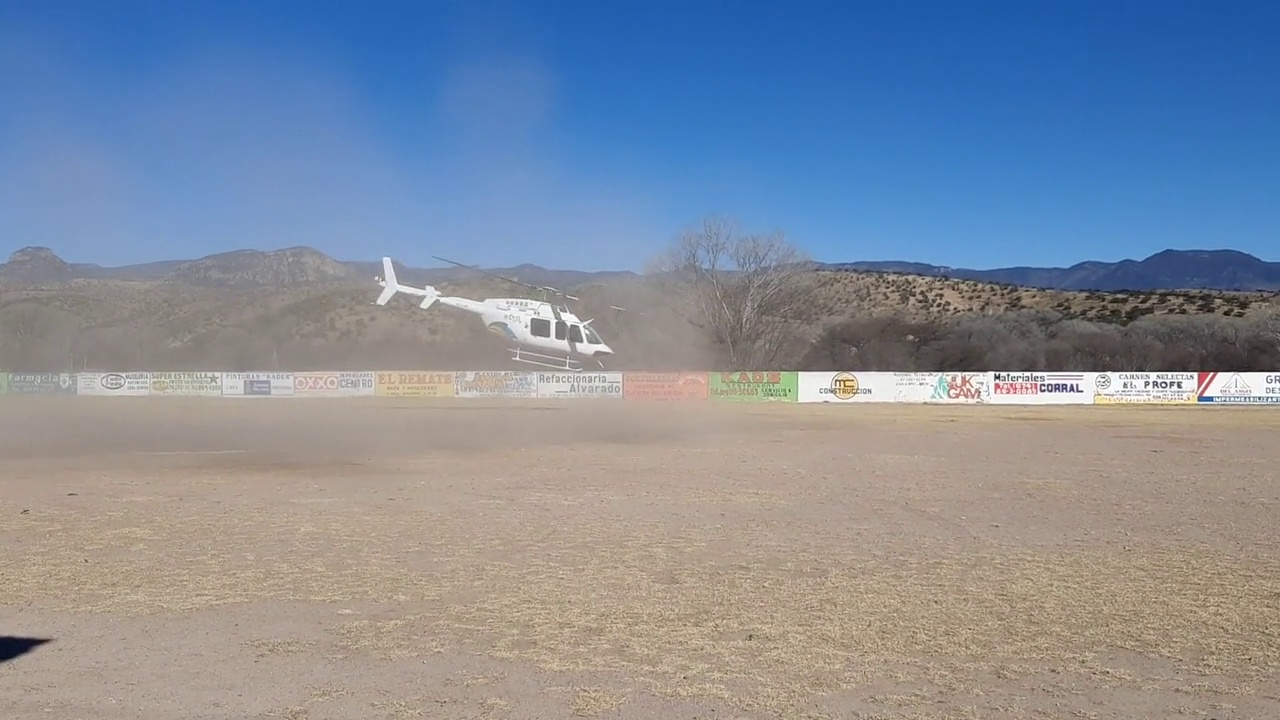heli: (374, 254, 626, 372)
